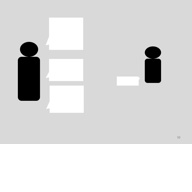left_oneway: (43, 13, 85, 52), (45, 84, 86, 115), (44, 56, 85, 82)
right_oneway: (113, 72, 144, 88)
